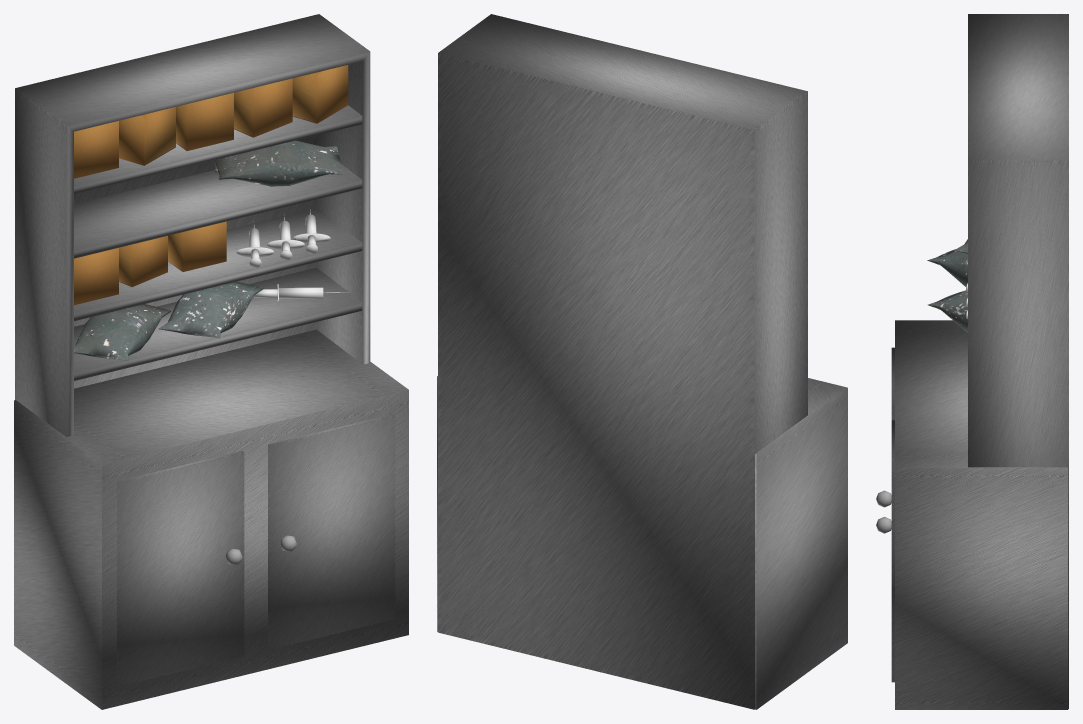
Rendered from medicinecabinet.obj.
3 renders of one model, left to right at view 1: azimuth 30°, elevation 25°; view 2: azimuth 150°, elevation 25°; view 3: azimuth 270°, elevation 25°, orthographic. The views are drawn at different scales.
Visible parts, largest first — view 1: Cube, Cube.001, Cube.007, Cube.008, Cube.005, Cube.009_Cube.014, Cube.003, Cube.004, Cube.006, Cube.018_Cube.023, Cube.017_Cube.022, Cylinder.014_Cylinder.016 (+6 smaller); view 2: Cube.001, Cube; view 3: Cube, Cube.001, Cube.009_Cube.014, Cube.008, Cube.010.
Part boxes in pixels (x1,y1,x2,y2): Cube: (14,329,408,709); Cube.001: (15,14,370,436); Cube.007: (117,450,244,686); Cube.008: (268,414,395,649); Cube.005: (74,164,362,258); Cube.009_Cube.014: (74,140,342,360); Cube.003: (74,267,362,380); Cube.004: (74,208,362,321); Cube.006: (74,105,362,194); Cube.018_Cube.023: (234,78,292,137); Cube.017_Cube.022: (176,92,233,150); Cylinder.014_Cylinder.016: (236,209,349,302); Cube.001: (438,14,807,709); Cube: (437,376,847,709); Cube: (895,320,1067,709); Cube.001: (968,14,1068,709); Cube.009_Cube.014: (927,239,967,332); Cube.008: (891,420,894,682); Cube.010: (876,490,891,533).
Bounding box in the file's own units: 1.43 × 2.49 × 0.7921.
